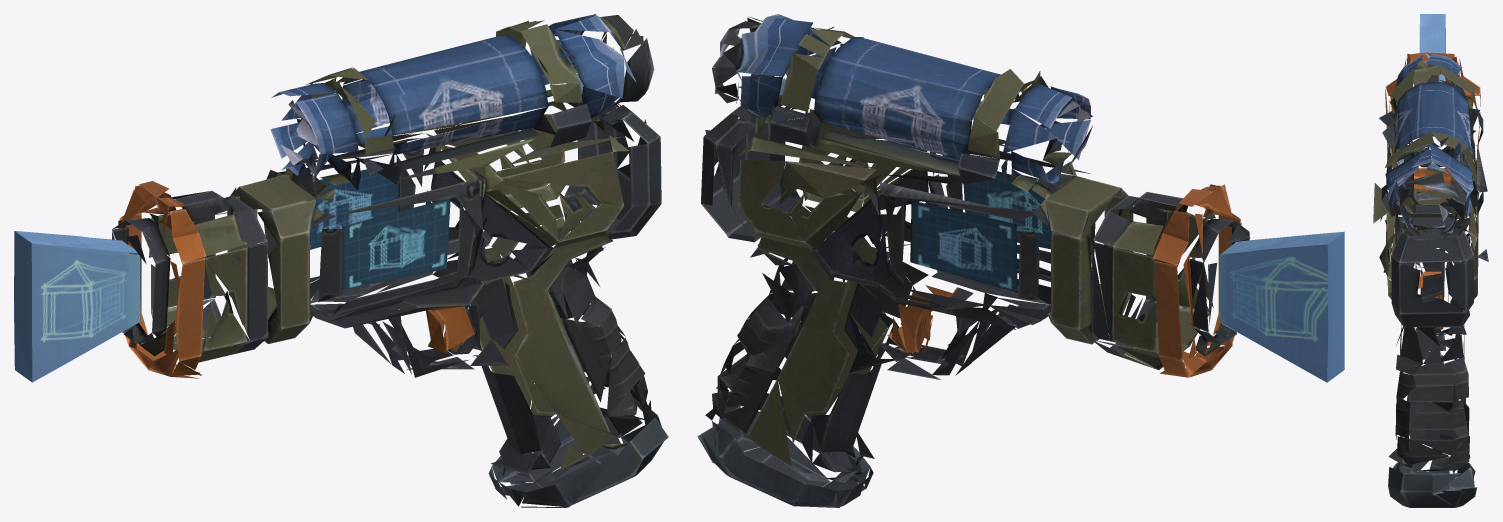
The model's file is build_tool_lod2.glb.
The picture shows the model from 3 angles, left to right: view 1: azimuth 30°, elevation 25°; view 2: azimuth 150°, elevation 25°; view 3: azimuth 270°, elevation 25°; orthographic projection. The views are drawn at different scales.
Parts seen in each view (by area): view 1: LOD2; view 2: LOD2; view 3: LOD2.
Part boxes in pixels (x1,y1,x2,y2): LOD2: (14,14,668,507); LOD2: (697,14,1344,507); LOD2: (1373,14,1488,507).
Size of the model in its own units: 0.3788 by 0.2726 by 0.0807.
Materials: 1 (1 with a texture image).
